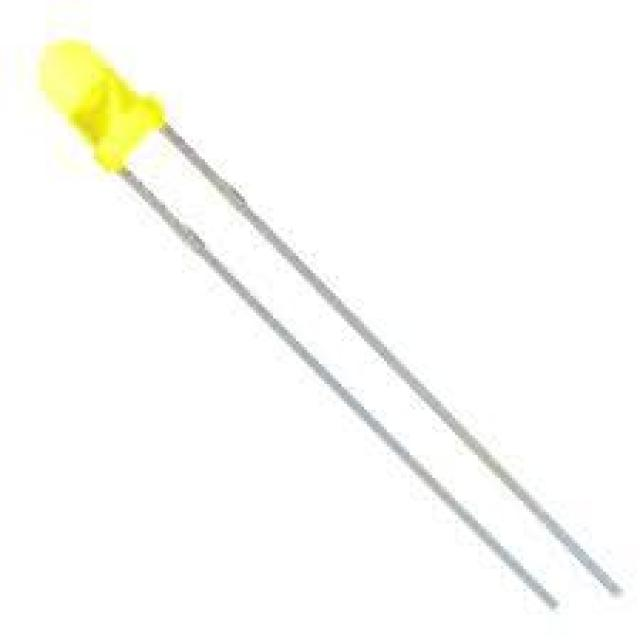Led: (41, 42, 490, 543)
